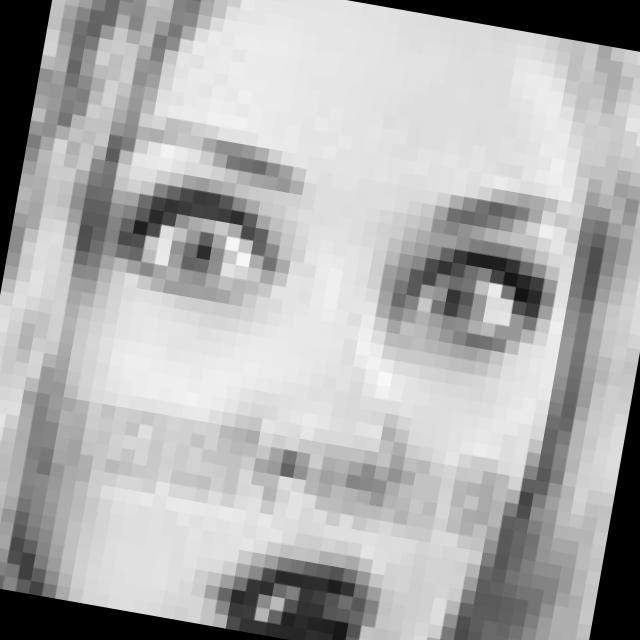surprise: (41, 105, 570, 640)
